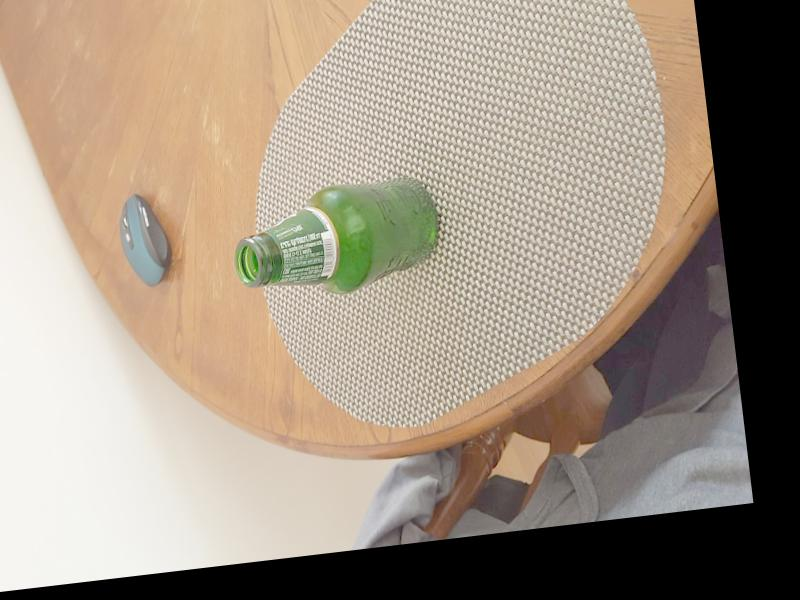Beer: (225, 169, 446, 309)
